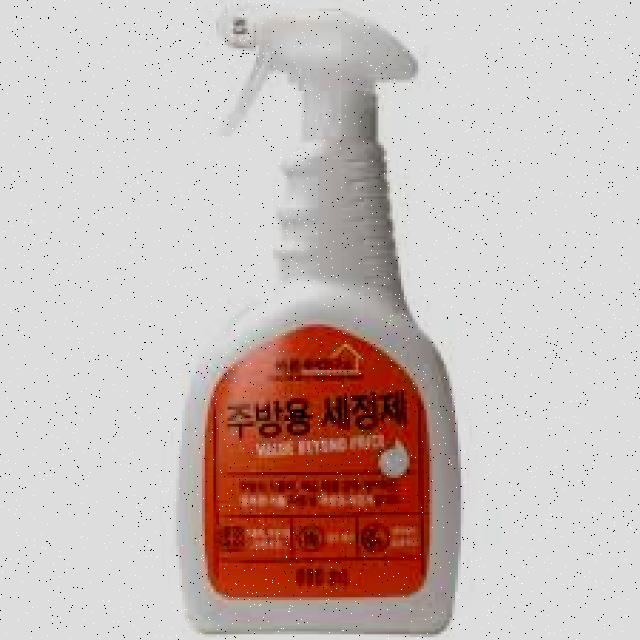liquid soap: (174, 0, 466, 640)
